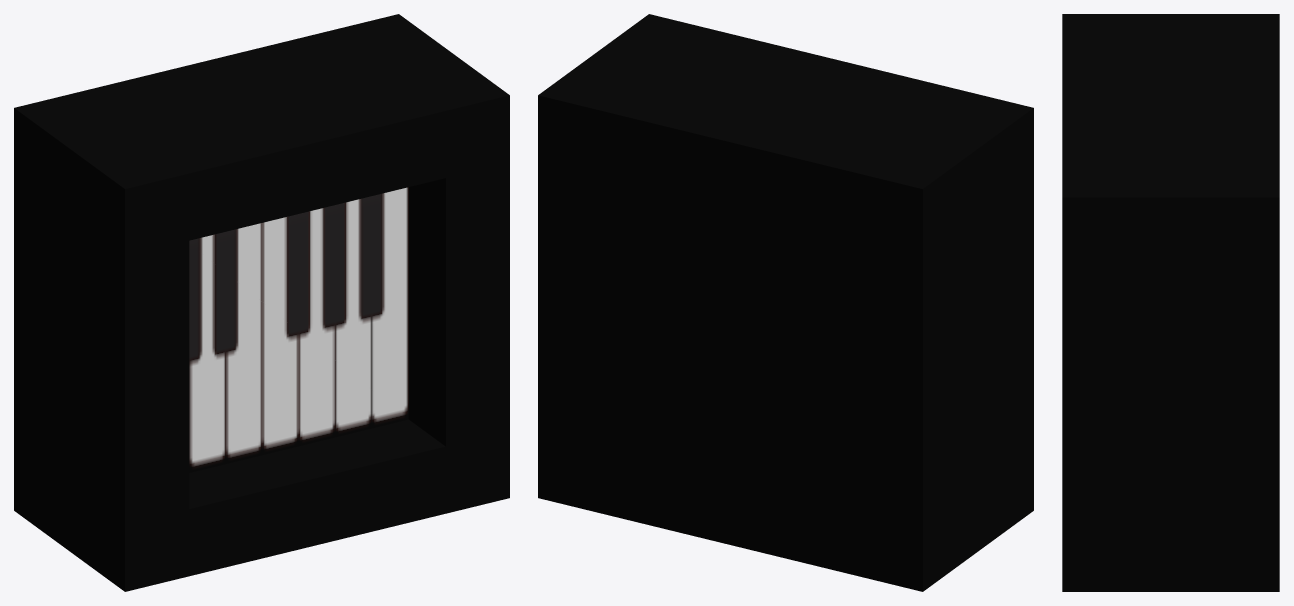
Rendered from OctaveButton.obj.
The picture shows the model from 3 angles, left to right: view 1: azimuth 30°, elevation 25°; view 2: azimuth 150°, elevation 25°; view 3: azimuth 270°, elevation 25°; orthographic projection. The views are drawn at different scales.
Parts seen in each view (by area): view 1: Cube_Cube.001; view 2: Cube_Cube.001; view 3: Cube_Cube.001.
Boxes of the visible parts, box(x1,y1,x2,y2) form: Cube_Cube.001: box(14, 14, 509, 591); Cube_Cube.001: box(538, 14, 1033, 591); Cube_Cube.001: box(1062, 14, 1279, 591).
Size of the model in its own units: 1.5 by 1.5 by 0.75.
1 material, 1 textured.
